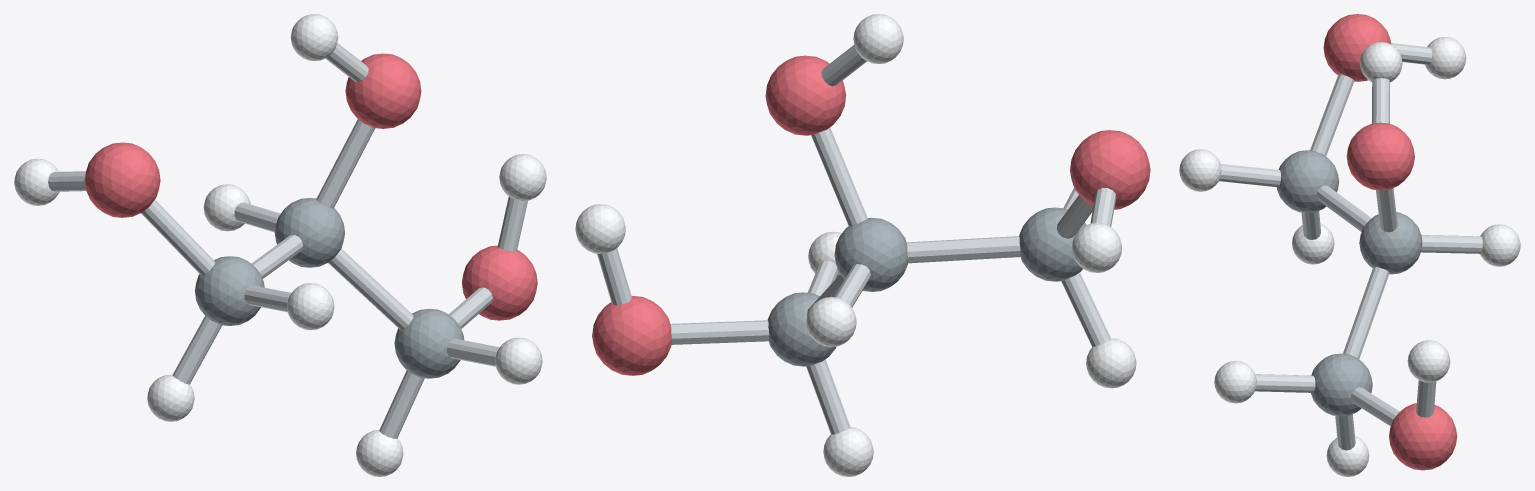
File: Gliserol.glb
3 renders of one model, left to right at view 1: azimuth 30°, elevation 25°; view 2: azimuth 150°, elevation 25°; view 3: azimuth 270°, elevation 25°, orthographic. The views are drawn at different scales.
Visible parts, largest first — view 1: Atomo_O_01, Atomo_O_04, Atomo_O_06, Atomo_C_05, Atomo_C_02, Atomo_C_03, Enlace_04, Enlace_03, Enlace_01, Atomo_H_12, Atomo_H_08, Atomo_H_11 (+15 smaller); view 2: Atomo_O_06, Atomo_O_04, Atomo_O_01, Atomo_C_03, Atomo_C_02, Atomo_C_05, Enlace_02, Enlace_05, Enlace_03, Atomo_H_11, Atomo_H_10, Atomo_H_14 (+12 smaller); view 3: Atomo_O_04, Atomo_O_06, Atomo_C_02, Atomo_C_05, Atomo_C_03, Atomo_O_01, Enlace_04, Enlace_01, Atomo_H_14, Atomo_H_08, Atomo_H_12, Atomo_H_10 (+15 smaller).
Boxes of the visible parts, bbox=[...] form: Atomo_O_01: bbox=[84, 142, 160, 217]; Atomo_O_04: bbox=[345, 53, 421, 128]; Atomo_O_06: bbox=[462, 245, 537, 320]; Atomo_C_05: bbox=[394, 308, 464, 378]; Atomo_C_02: bbox=[194, 256, 264, 325]; Atomo_C_03: bbox=[274, 198, 344, 267]; Enlace_04: bbox=[328, 249, 413, 329]; Enlace_03: bbox=[316, 119, 375, 208]; Enlace_01: bbox=[141, 200, 214, 275]; Atomo_H_12: bbox=[495, 337, 542, 384]; Atomo_H_08: bbox=[287, 283, 334, 330]; Atomo_H_11: bbox=[290, 14, 338, 60]; Atomo_O_06: bbox=[592, 295, 671, 375]; Atomo_O_04: bbox=[765, 55, 846, 135]; Atomo_O_01: bbox=[1070, 130, 1150, 209]; Atomo_C_03: bbox=[834, 217, 908, 291]; Atomo_C_02: bbox=[1019, 207, 1086, 281]; Atomo_C_05: bbox=[767, 292, 836, 366]; Enlace_02: bbox=[906, 236, 1020, 263]; Enlace_05: bbox=[670, 320, 769, 344]; Enlace_03: bbox=[811, 127, 867, 226]; Atomo_H_11: bbox=[853, 14, 903, 63]; Atomo_H_10: bbox=[806, 297, 856, 346]; Atomo_H_14: bbox=[575, 204, 625, 253]; Atomo_O_04: bbox=[1346, 122, 1414, 190]; Atomo_O_06: bbox=[1389, 403, 1457, 470]; Atomo_C_02: bbox=[1276, 150, 1339, 212]; Atomo_C_05: bbox=[1311, 353, 1372, 416]; Atomo_C_03: bbox=[1359, 212, 1422, 274]; Atomo_O_01: bbox=[1323, 14, 1390, 81]; Enlace_04: bbox=[1343, 266, 1389, 358]; Enlace_01: bbox=[1310, 74, 1354, 156]; Atomo_H_14: bbox=[1407, 340, 1450, 382]; Atomo_H_08: bbox=[1179, 149, 1221, 191]; Atomo_H_12: bbox=[1214, 361, 1256, 403]; Atomo_H_10: bbox=[1480, 224, 1520, 266].
Bounding box in the file's own units: 4.32 × 3.65 × 2.75.
